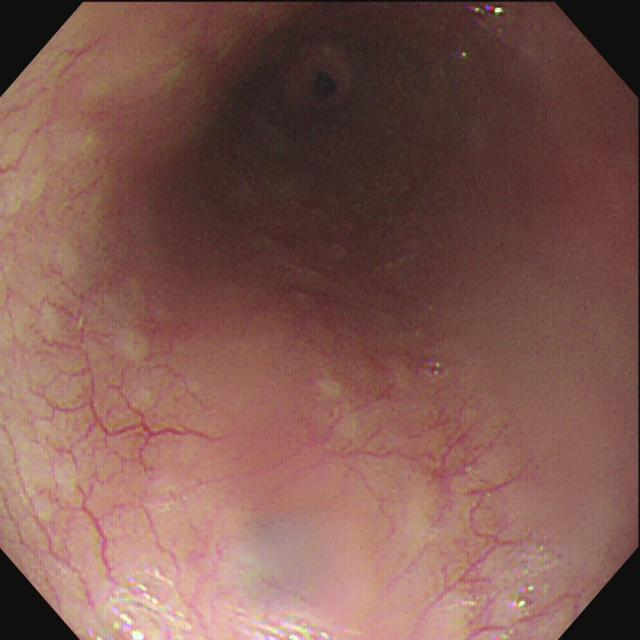E: (210, 11, 428, 226)
T: (82, 566, 199, 640), (512, 552, 551, 617), (252, 612, 332, 640), (422, 355, 455, 384)
U: (466, 3, 508, 21)
